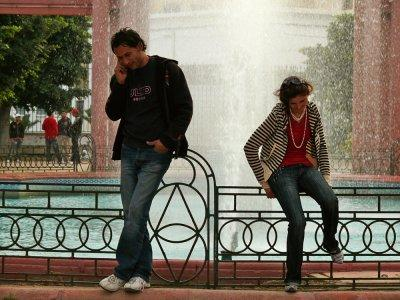person: (99, 29, 195, 292)
